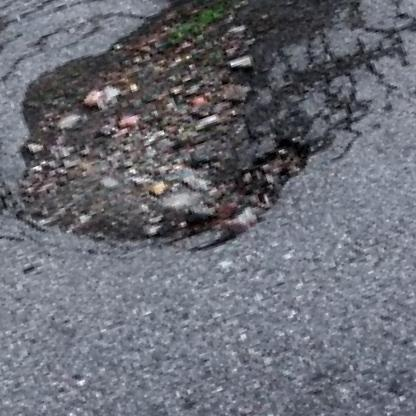pothole: (0, 0, 373, 307)
